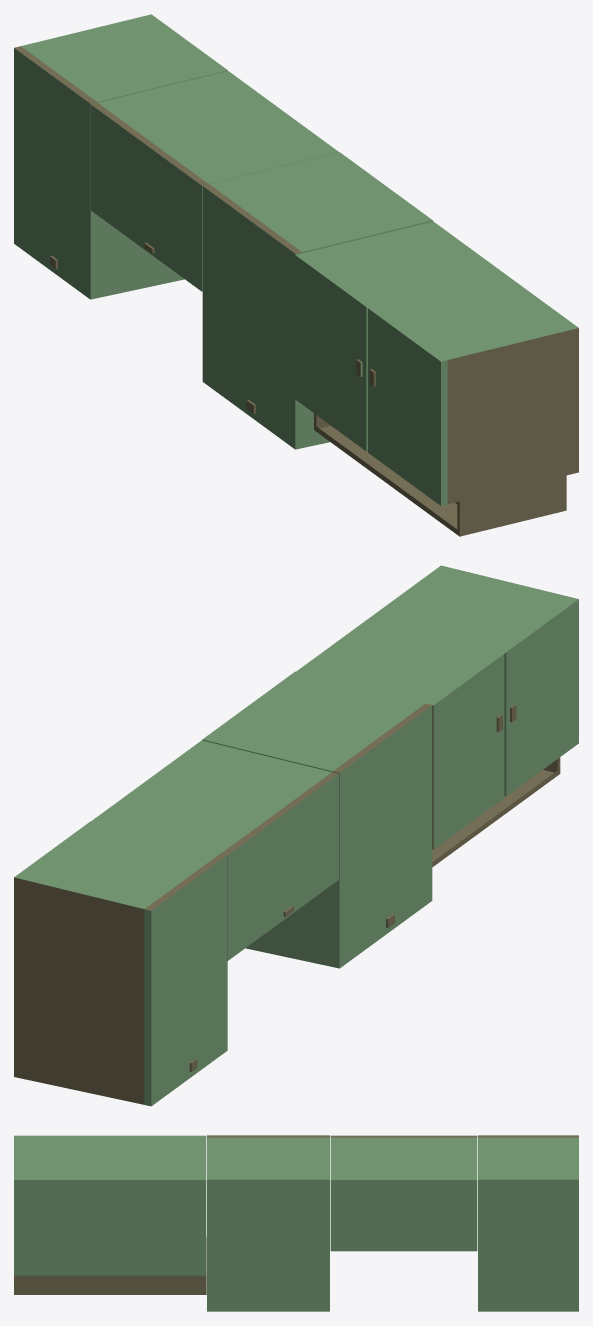
File: küchenkasten (1).fbx
3 renders of one model, top to bottom at view 1: azimuth 30°, elevation 25°; view 2: azimuth 150°, elevation 25°; view 3: azimuth 270°, elevation 25°, orthographic. The views are drawn at different scales.
Parts seen in each view (by area): view 1: Cube.009; view 2: Cube.009; view 3: Cube.009.
Boxes of the visible parts, bbox=[...] form: Cube.009: bbox=[14, 14, 578, 536]; Cube.009: bbox=[14, 565, 578, 1106]; Cube.009: bbox=[14, 1135, 578, 1311].
Size of the model in its own units: 48.52 by 66.06 by 256.
